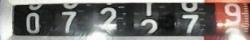digits: (138, 2, 160, 36), (223, 3, 243, 39), (180, 3, 199, 36), (99, 7, 120, 32), (61, 10, 76, 34), (25, 12, 40, 34)
